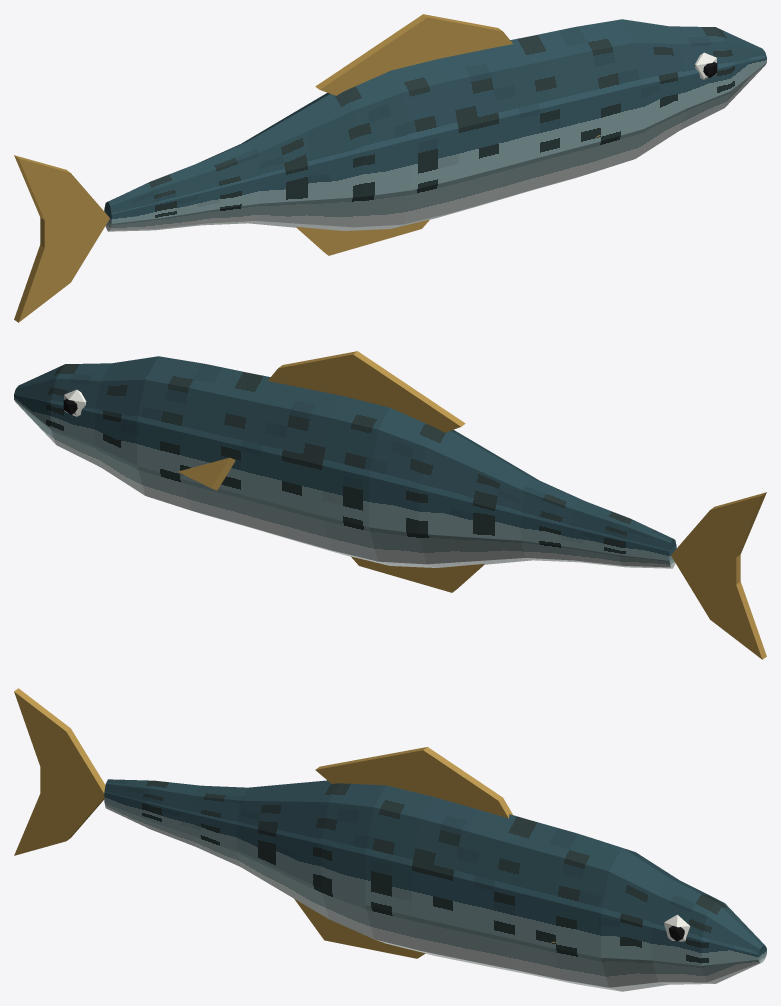
File: australian_salmon.glb
3 renders of one model, top to bottom at view 1: azimuth 30°, elevation 25°; view 2: azimuth 150°, elevation 25°; view 3: azimuth 330°, elevation 25°, orthographic.
Parts seen in each view (by area): view 1: fish_australian_salmon; view 2: fish_australian_salmon; view 3: fish_australian_salmon.
Part boxes in pixels (x1,y1,x2,y2): fish_australian_salmon: [14, 14, 766, 322]; fish_australian_salmon: [14, 351, 766, 659]; fish_australian_salmon: [14, 688, 766, 991].
Size of the model in its own units: 1.14 by 0.3129 by 0.1501.
4 materials, 1 textured.
